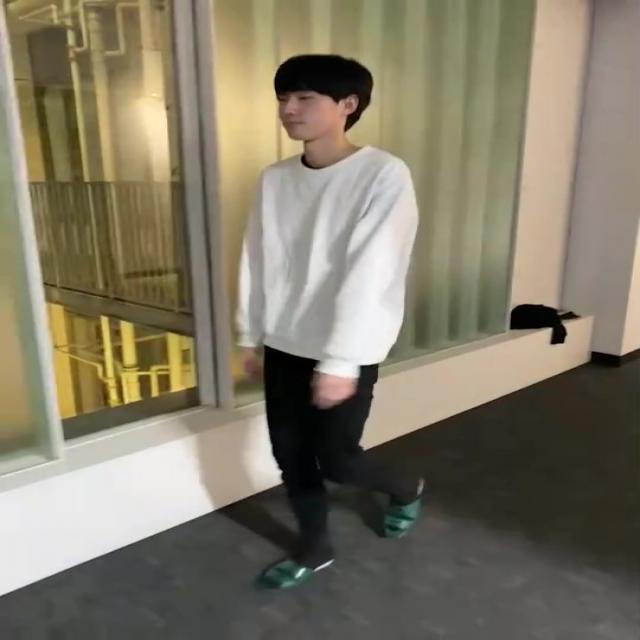direk: (226, 52, 438, 600)
